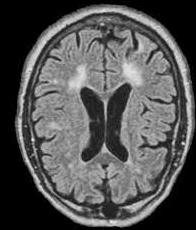Normal_Brain: (8, 1, 196, 230)
